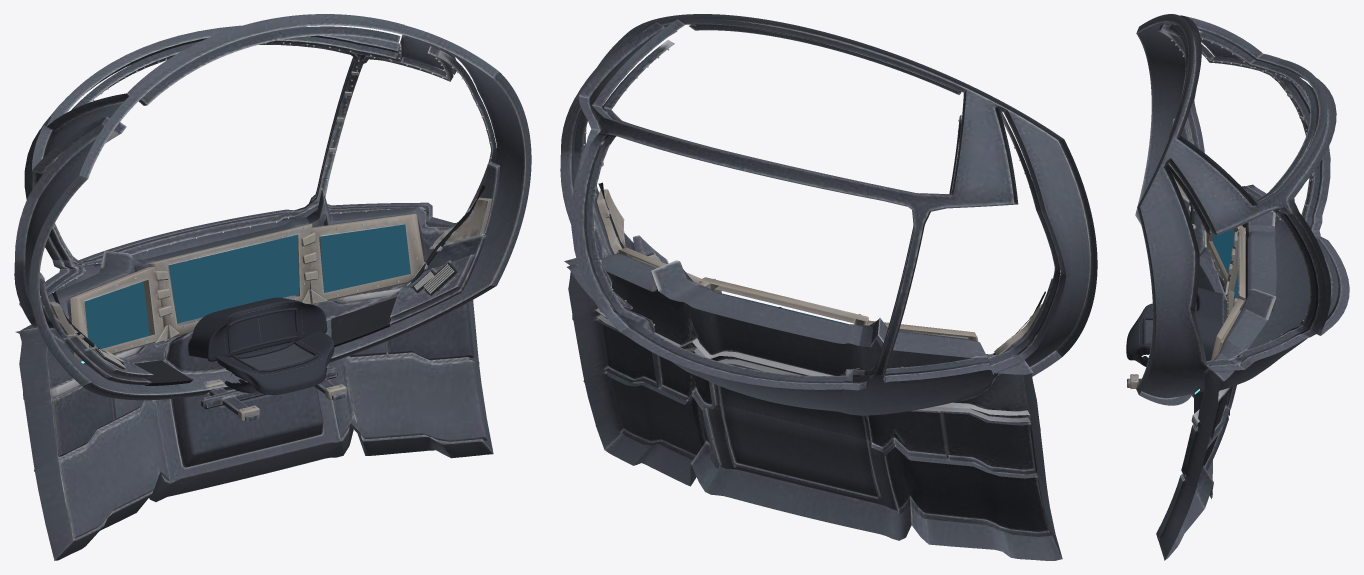
Rendered from cockpit_kasif_m.glb.
3 views of the same model, side by side, from view 1: azimuth 30°, elevation 25°; view 2: azimuth 150°, elevation 25°; view 3: azimuth 270°, elevation 25° (orthographic). The views are drawn at different scales.
Parts seen in each view (by area): view 1: Cockpit_Body, SCR_RADAR, SCR_HULL, SCR_SYS; view 2: Cockpit_Body; view 3: Cockpit_Body, SCR_SYS.
Part boxes in pixels (<box>): Cockpit_Body: <box>14,14,531,560</box>; SCR_RADAR: <box>168,235,299,323</box>; SCR_HULL: <box>320,224,410,292</box>; SCR_SYS: <box>84,281,149,348</box>; Cockpit_Body: <box>560,14,1097,560</box>; Cockpit_Body: <box>1126,14,1349,560</box>; SCR_SYS: <box>1213,229,1234,274</box>.
Bounding box in the file's own units: 2.77 × 2.49 × 1.21.
10 materials, 8 textured.
